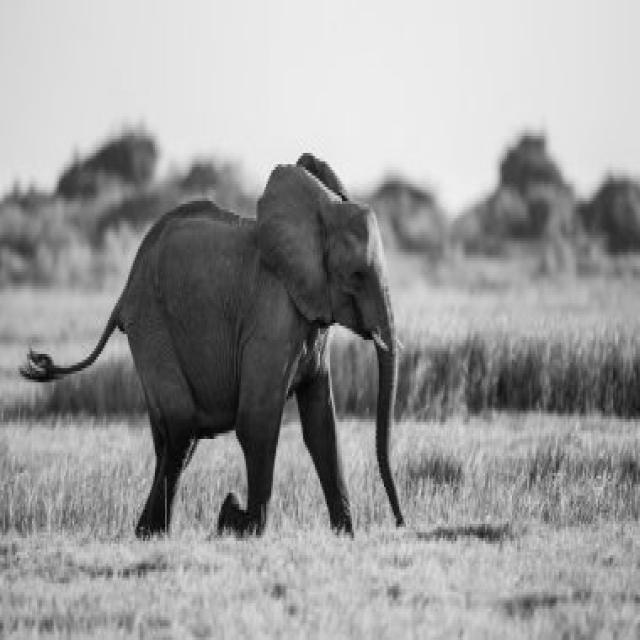Animal: (21, 153, 402, 537)
